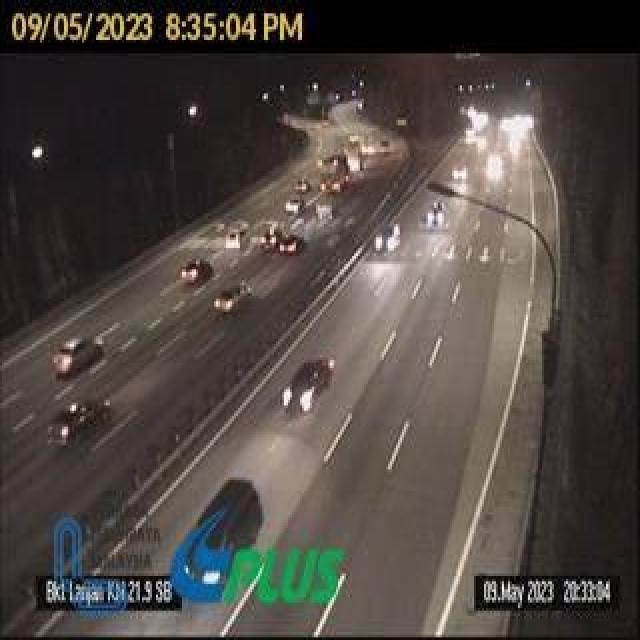Car: (182, 476, 264, 587), (282, 360, 335, 412), (52, 339, 102, 375), (375, 223, 401, 256), (181, 259, 212, 284), (279, 234, 304, 257), (427, 202, 448, 228), (283, 196, 305, 218), (292, 179, 312, 195), (452, 165, 467, 183)
Truck: (316, 152, 353, 193)
Van: (226, 220, 250, 253)
